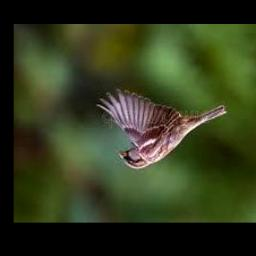Sparrow: (96, 89, 225, 170)
